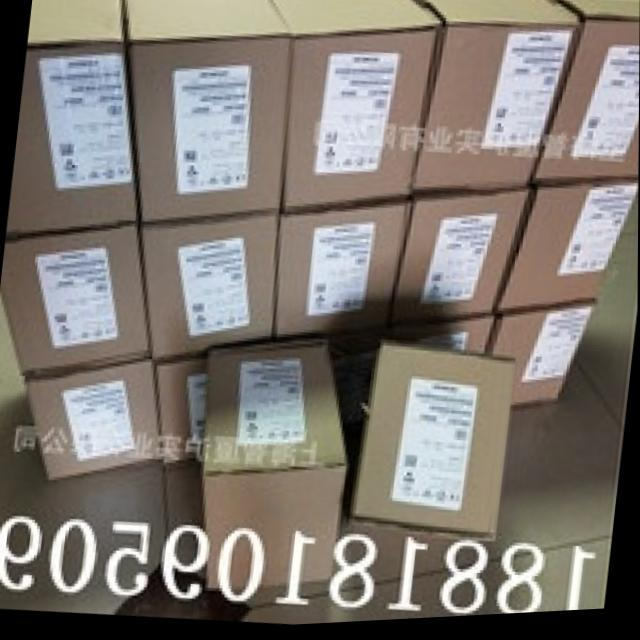box: (267, 0, 440, 214), (122, 0, 290, 219), (342, 346, 516, 555), (204, 345, 347, 593), (411, 0, 576, 202), (5, 0, 139, 240), (2, 222, 152, 382), (138, 214, 282, 367), (529, 2, 640, 189), (388, 189, 532, 332), (488, 185, 639, 321), (273, 199, 409, 345), (27, 361, 164, 482), (481, 310, 597, 410), (154, 358, 208, 461), (387, 324, 497, 362)
